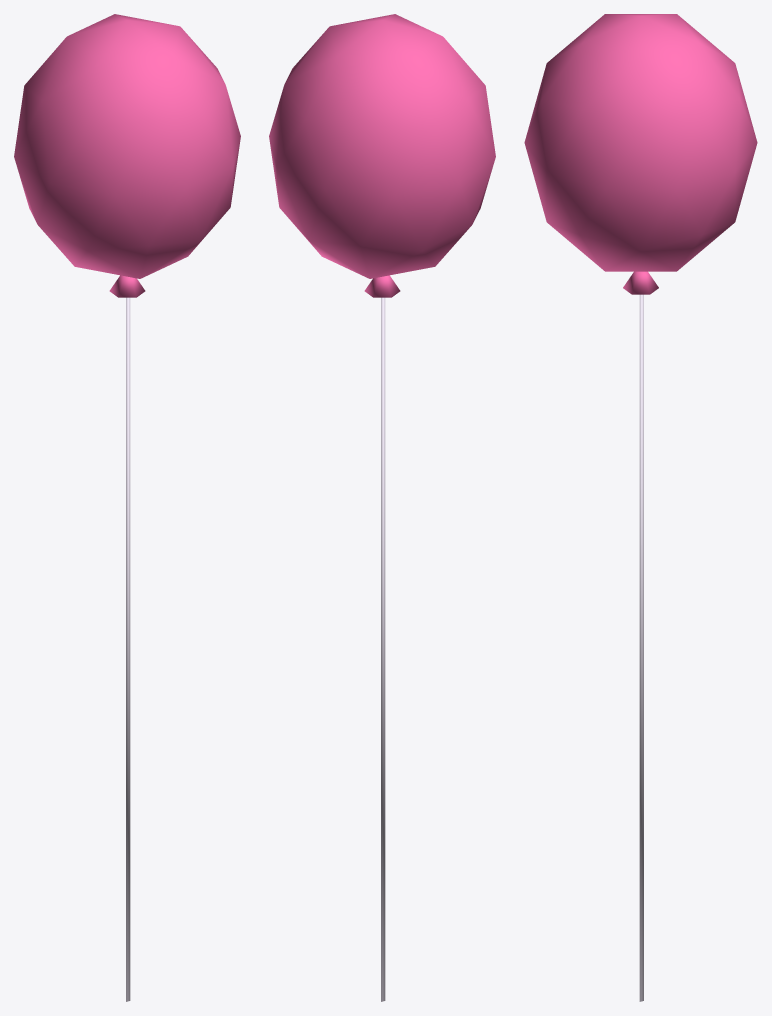
Rendered from balloon.glb.
The picture shows the model from 3 angles, left to right: view 1: azimuth 30°, elevation 25°; view 2: azimuth 150°, elevation 25°; view 3: azimuth 270°, elevation 25°; orthographic projection.
Parts seen in each view (by area): view 1: balloon; view 2: balloon; view 3: balloon.
Boxes of the visible parts, x1,y1,x2,y2 form: balloon: [14, 14, 240, 1001]; balloon: [269, 14, 495, 1001]; balloon: [524, 14, 757, 1001].
Size of the model in its own units: 0.6087 by 2.98 by 0.64.
